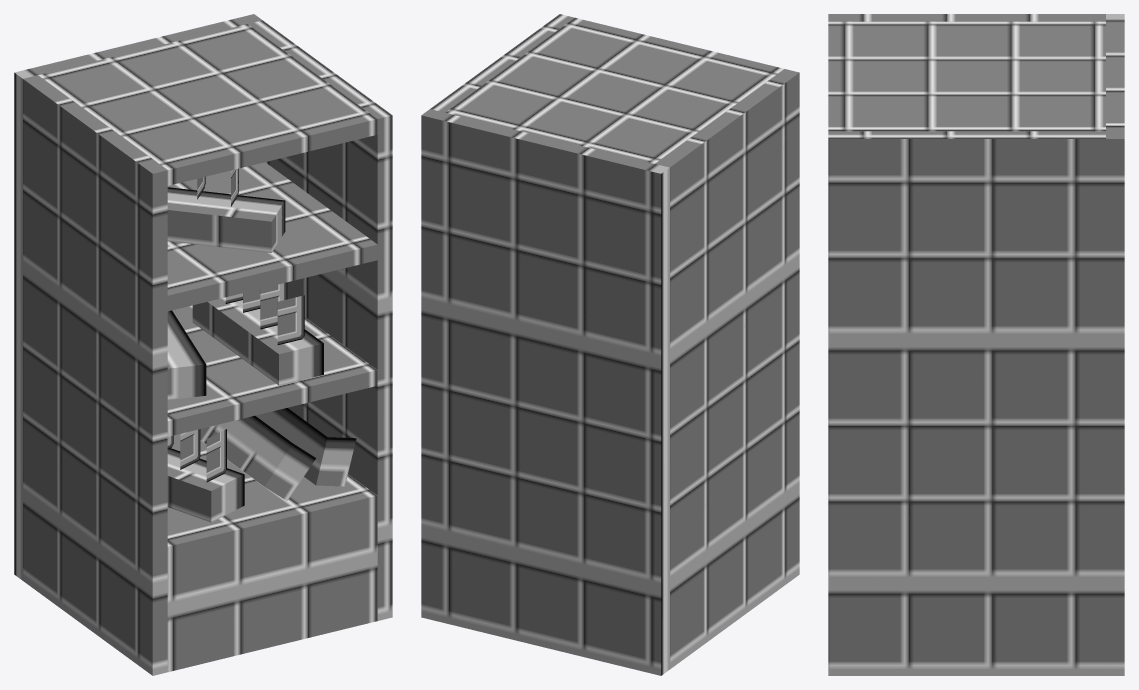
Rendered from craftcardlibrary.obj.
3 renders of one model, left to right at view 1: azimuth 30°, elevation 25°; view 2: azimuth 150°, elevation 25°; view 3: azimuth 270°, elevation 25°, orthographic. The views are drawn at different scales.
Parts seen in each view (by area): view 1: shelf1, shelf4, shelf3, shelf2, shelf5, shelf6, shelf, cardBox3, cardBox, cardBox5, cardBox2, cardBox4 (+5 smaller); view 2: shelf, shelf1, shelf3, shelf2; view 3: shelf2, shelf3, shelf, shelf1.
Part boxes in pixels (x1,y1,x2,y2): shelf1: (23,75,167,675); shelf4: (167,434,377,672); shelf3: (38,24,377,185); shelf2: (248,20,392,620); shelf5: (167,162,377,311); shelf6: (167,305,377,436); shelf: (14,14,262,580); cardBox3: (167,187,285,252); cardBox: (192,297,323,385); cardBox5: (200,415,315,500); cardBox2: (167,448,244,522); cardBox4: (255,408,356,486); shelf: (421,109,669,675); shelf1: (655,69,799,669); shelf3: (445,17,784,163); shelf2: (430,14,574,112); shelf2: (828,131,1105,675); shelf3: (828,21,1105,131); shelf: (1106,14,1124,675); shelf1: (828,14,1105,21).
Bounding box in the file's own units: 1 × 2 × 1.
